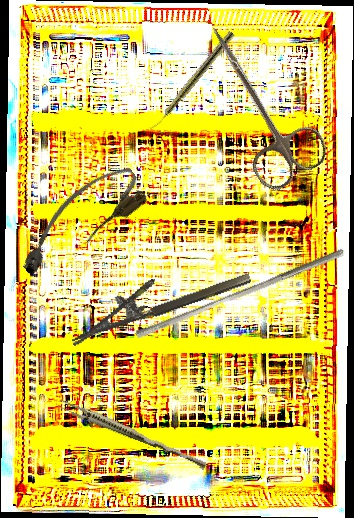Cannula: (5, 157, 153, 284)
Handpiece: (148, 29, 236, 134)
Iris Scissors: (178, 9, 334, 197)
Needle Holder: (61, 248, 253, 347)
Pusher: (133, 239, 347, 347)
Tissue Forceps: (56, 397, 209, 471)
